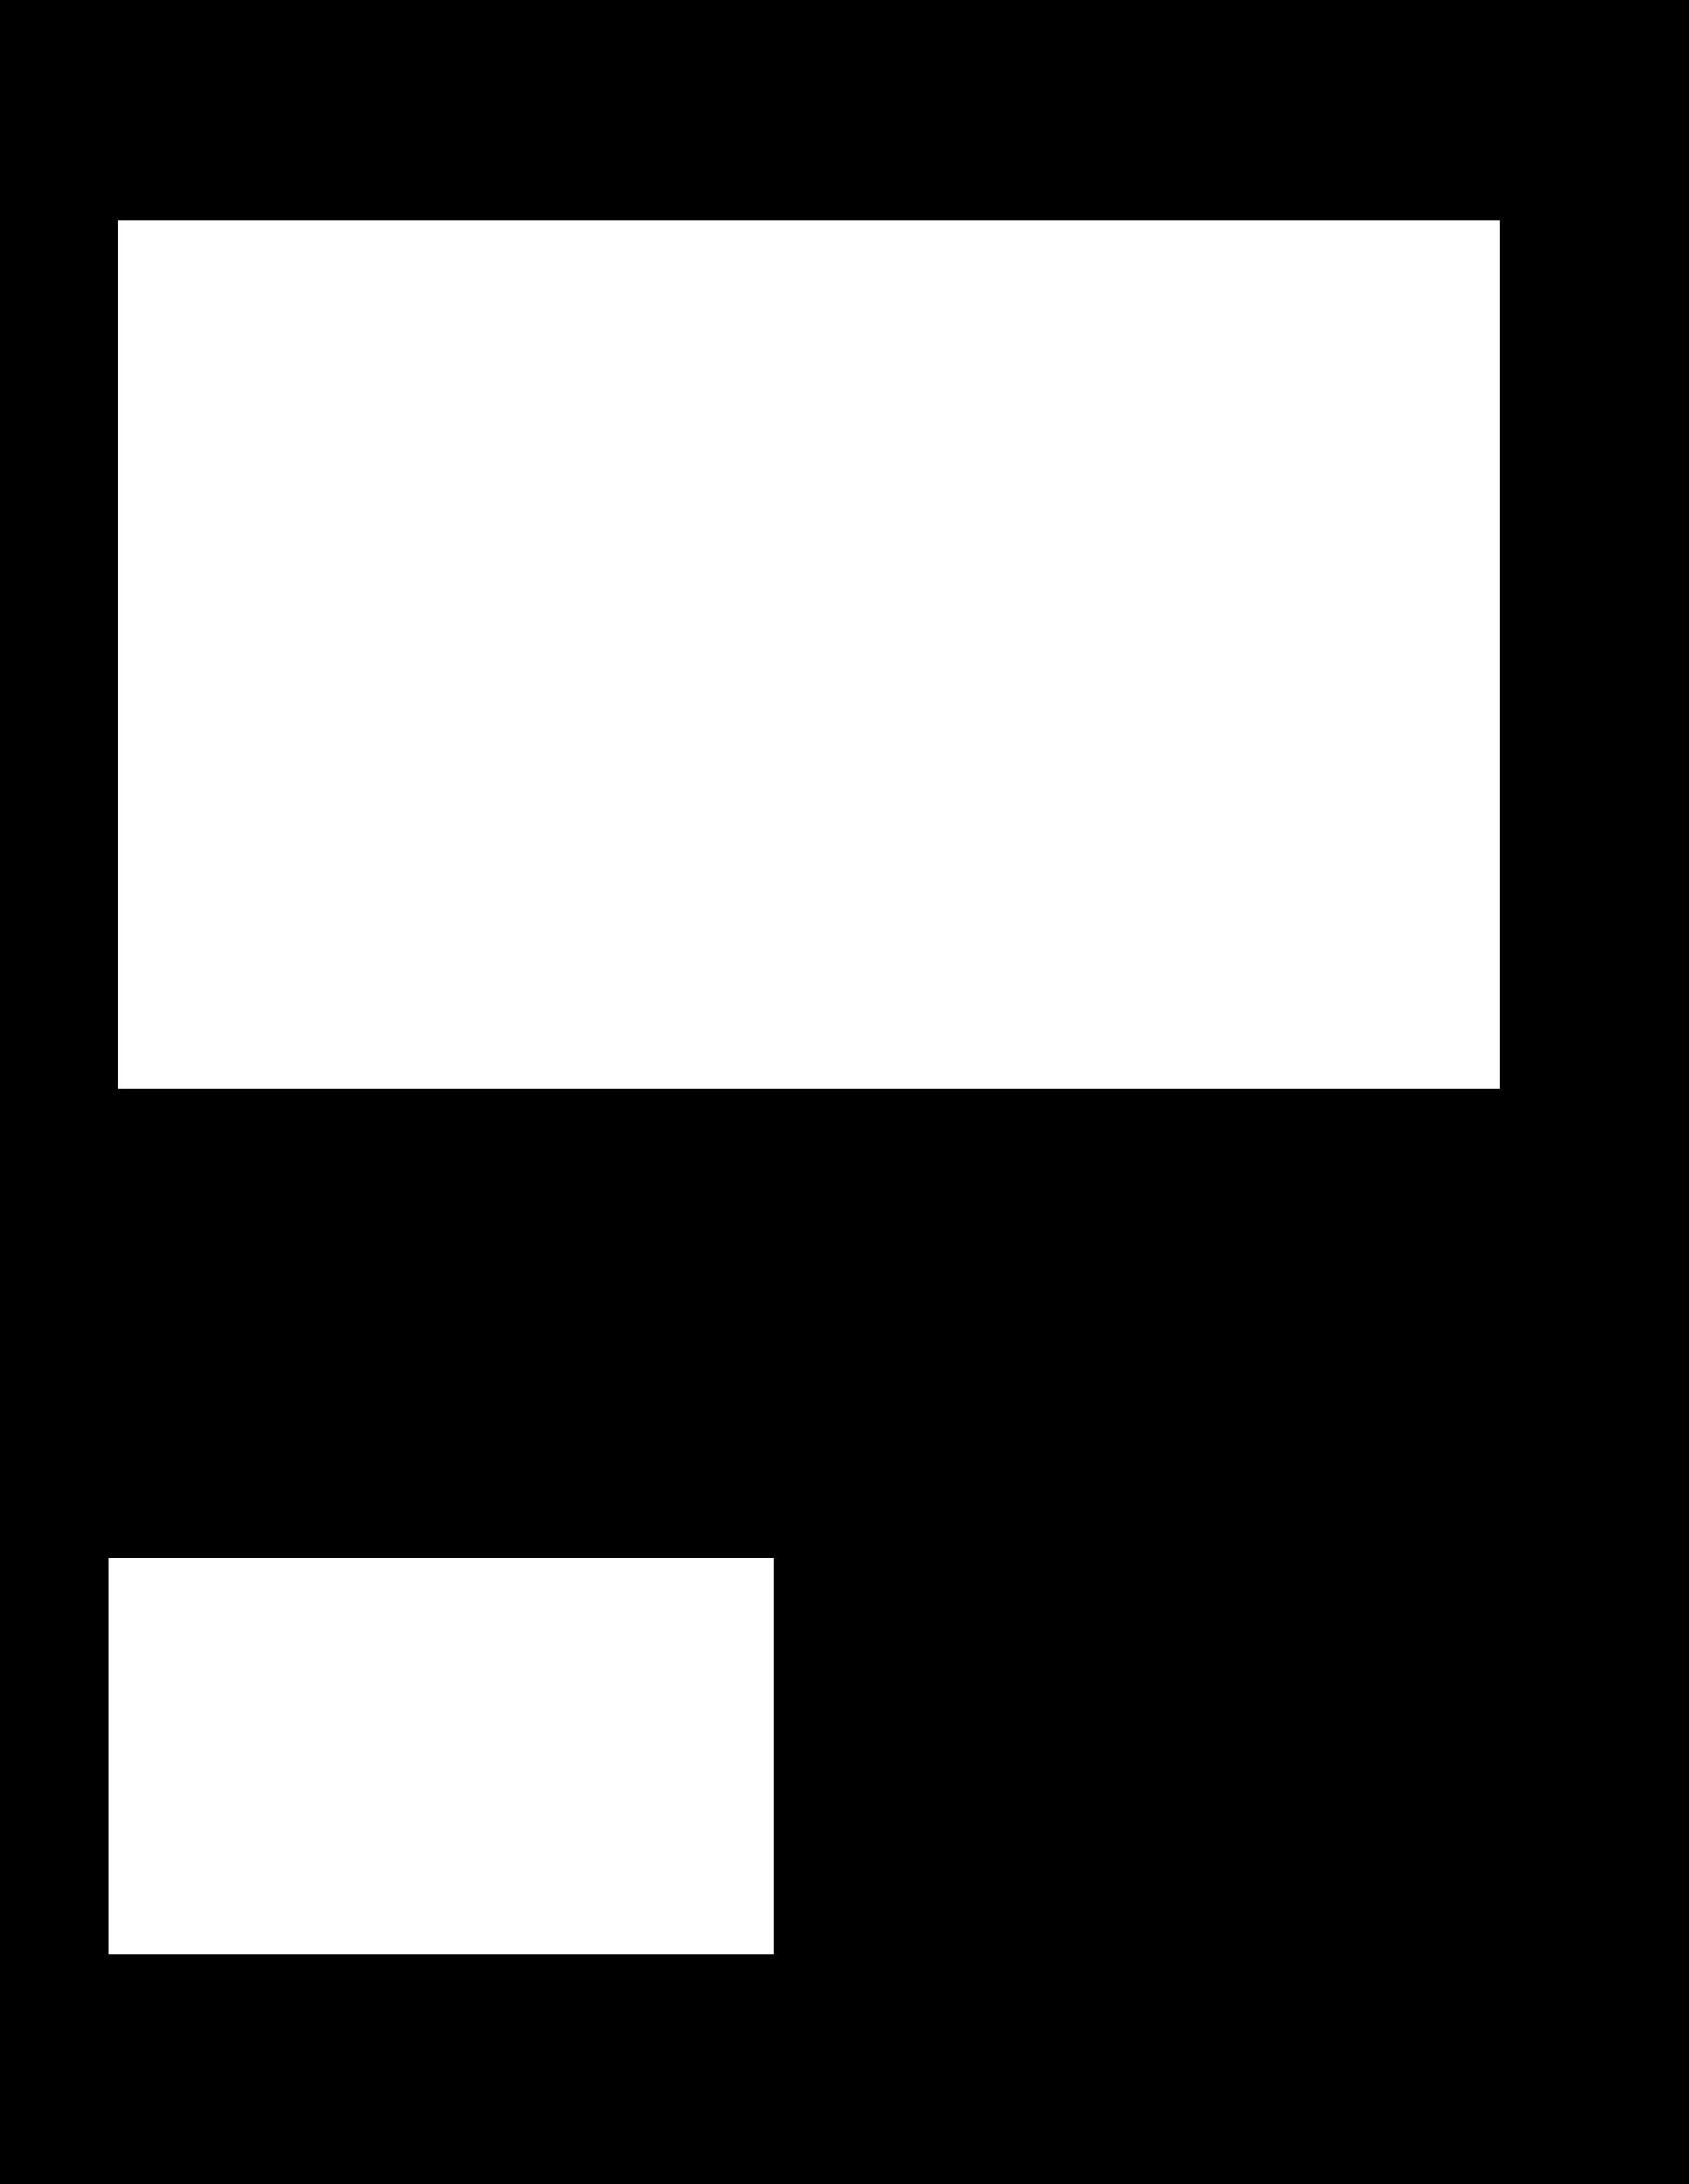table: (117, 220, 1499, 1088), (108, 1558, 773, 1954)
